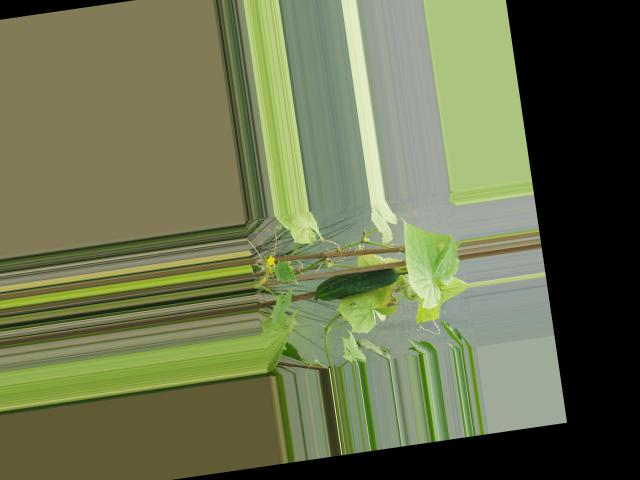cucumber: (312, 266, 400, 302)
